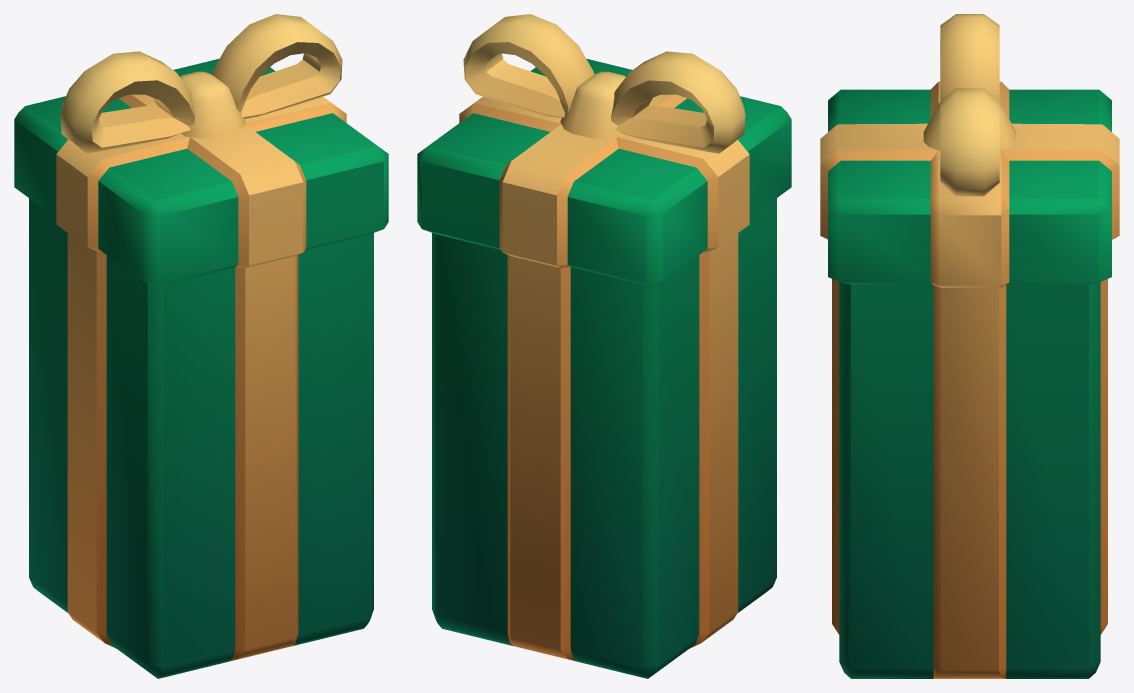
File: present_B_green.glb
The picture shows the model from 3 angles, left to right: view 1: azimuth 30°, elevation 25°; view 2: azimuth 150°, elevation 25°; view 3: azimuth 270°, elevation 25°; orthographic projection.
Visible parts, largest first — view 1: present_B_green; view 2: present_B_green; view 3: present_B_green.
Part boxes in pixels (box(x1,y1,x2,y2)): present_B_green: box(14, 14, 388, 678); present_B_green: box(417, 14, 791, 678); present_B_green: box(820, 14, 1119, 678).
Size of the model in its own units: 0.5215 by 1.06 by 0.5038.
Materials: 1 (1 with a texture image).
